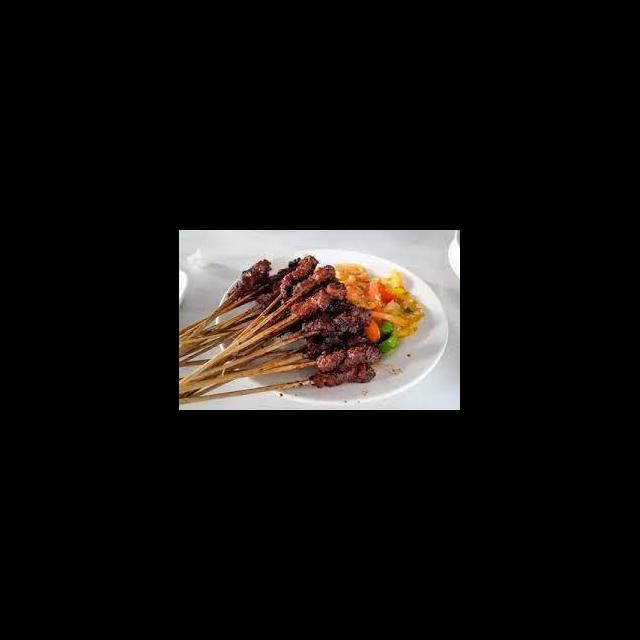food_waste: (284, 271, 406, 354)
